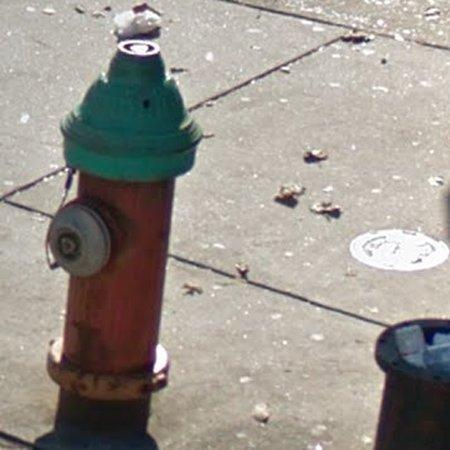a fire hydrant: (35, 39, 202, 450)
